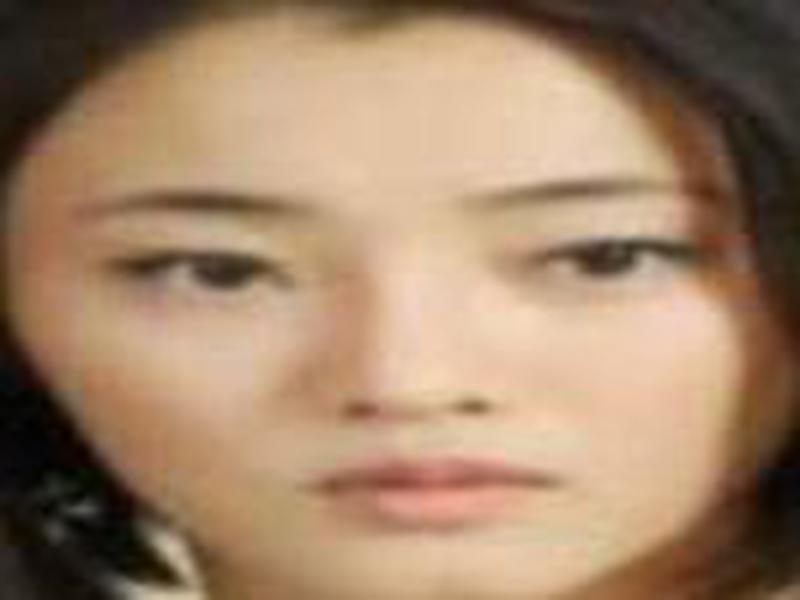without_mask: (14, 101, 765, 591)
